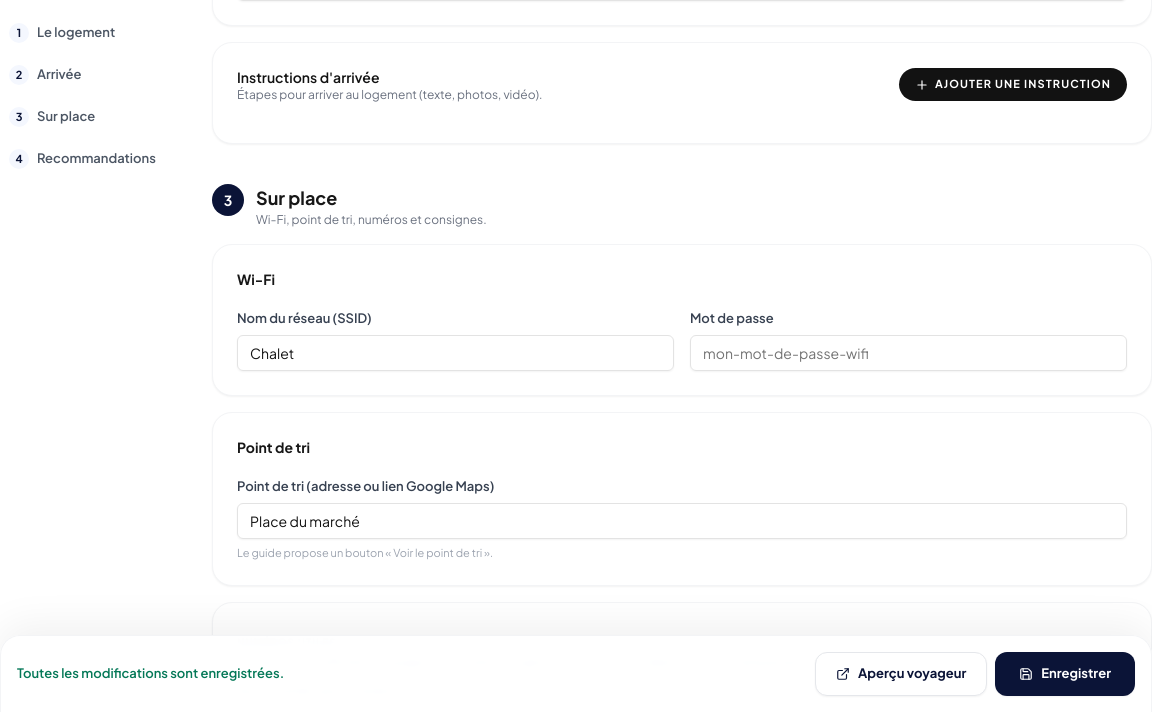
Test case: 077 — page Guide › AC-04-02 : barre d’état — modifié, puis enregistré ; confirmation avant de quitter
The width and height of the screenshot is (1152, 712).
(page scrolled)
Expected: the message named "État de l’enregistrement" reads "Toutes les modifications sont enregistrées.", [17,665,284,681]
Replace the text in the field labelled "Nom du réseau (SSID)" with "Chalet 2". click: (456, 352)
box: [237,334,674,370]
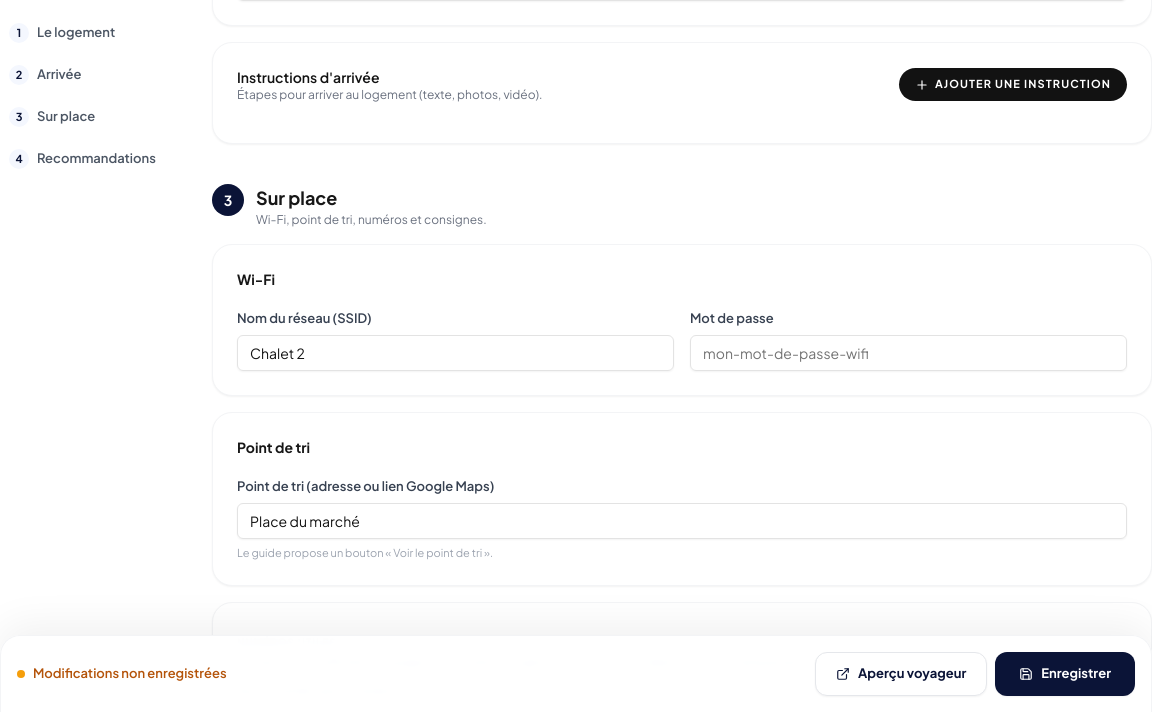
Expected: the message named "État de l’enregistrement" reads "Modifications non enregistrées", [33,665,226,681]
Click the button "Enregistrer". click: (1065, 674)
box: [995,652,1135,696]
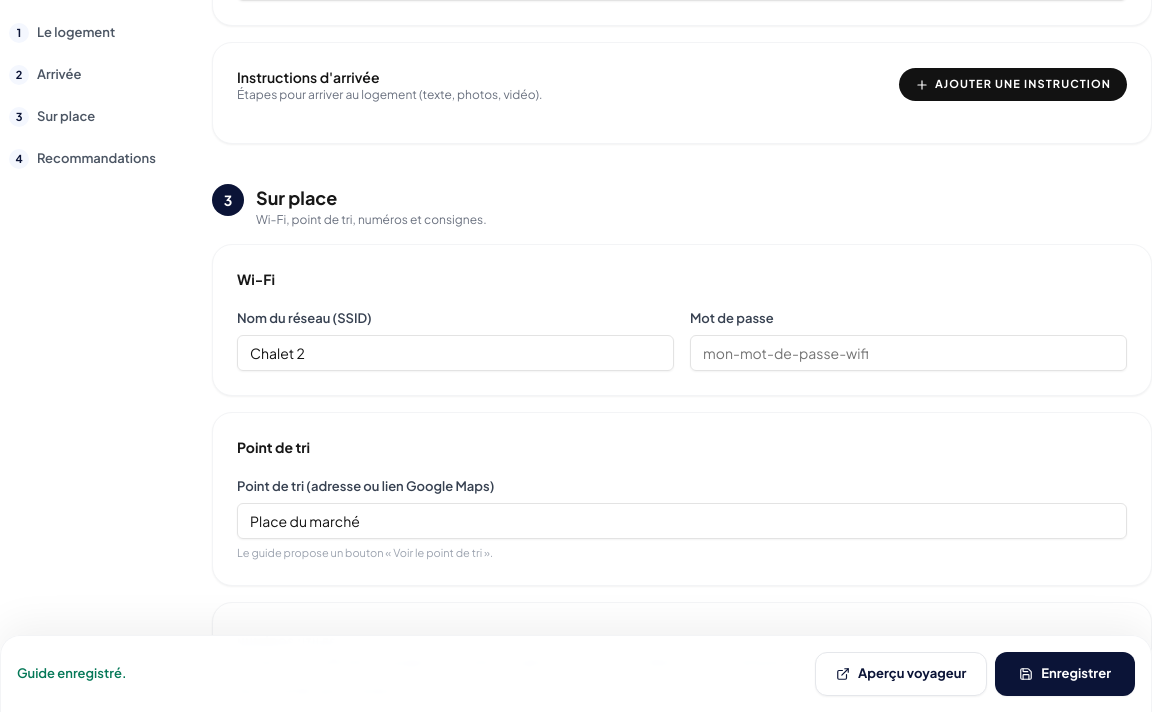
Expected: the message named "État de l’enregistrement" reads "Guide enregistré.", [17,665,126,681]
